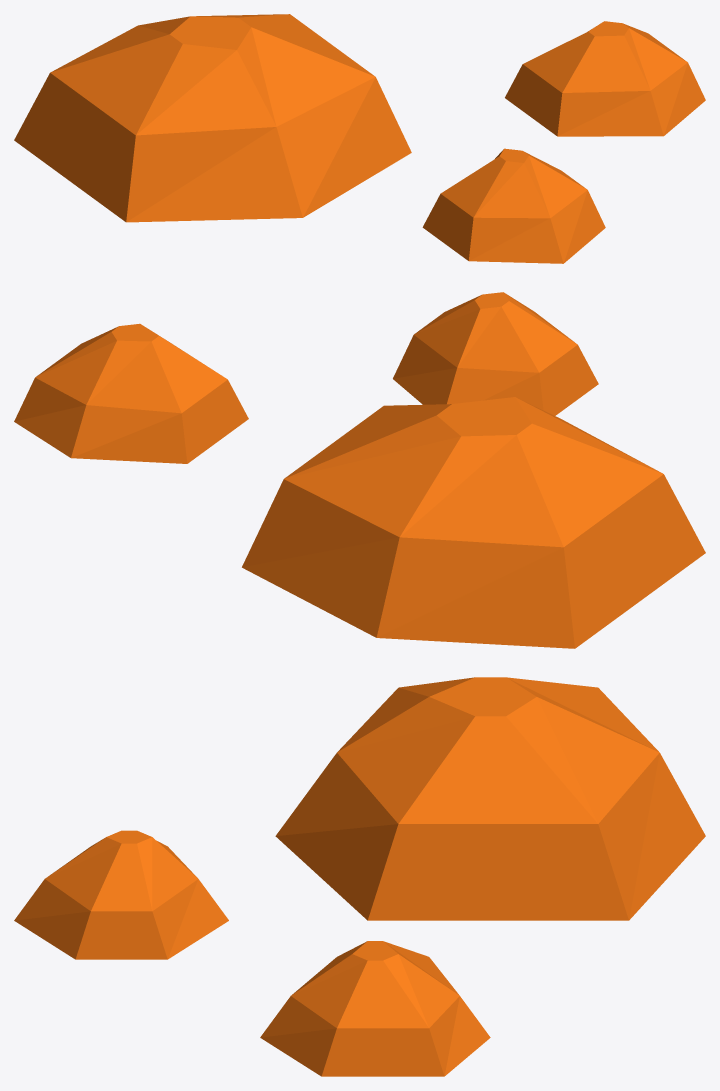
File: model_loc_731_8.obj
The picture shows the model from 3 angles, top to bottom: view 1: azimuth 30°, elevation 25°; view 2: azimuth 150°, elevation 25°; view 3: azimuth 270°, elevation 25°; orthographic projection. The views are drawn at different scales.
Parts seen in each view (by area): view 1: 2297; view 2: 2297; view 3: 2297.
Part boxes in pixels (x1,y1,x2,y2): 2297: [14, 14, 705, 263]; 2297: [14, 292, 705, 648]; 2297: [14, 677, 705, 1076].
Bounding box in the file's own units: 49 × 10 × 45.
